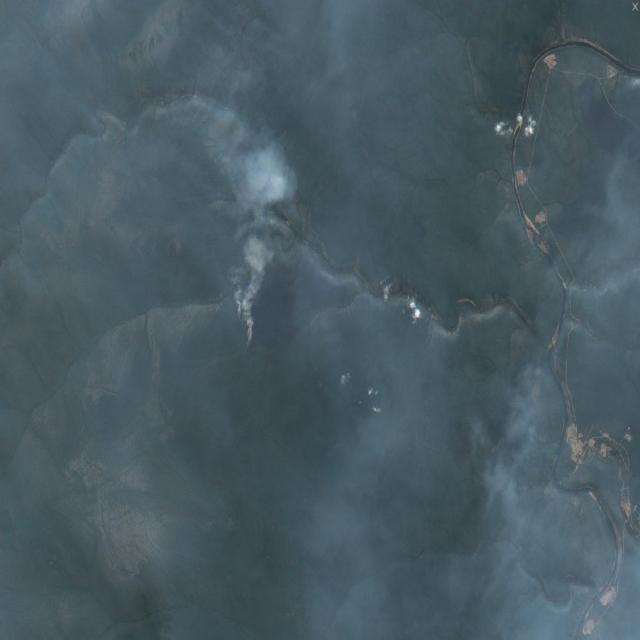fire: (228, 280, 266, 357)
